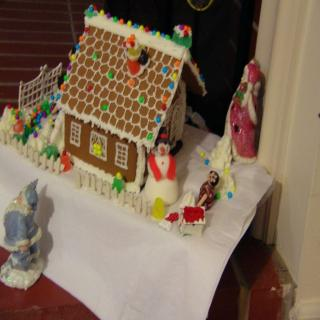Cake: (0, 3, 261, 235)
